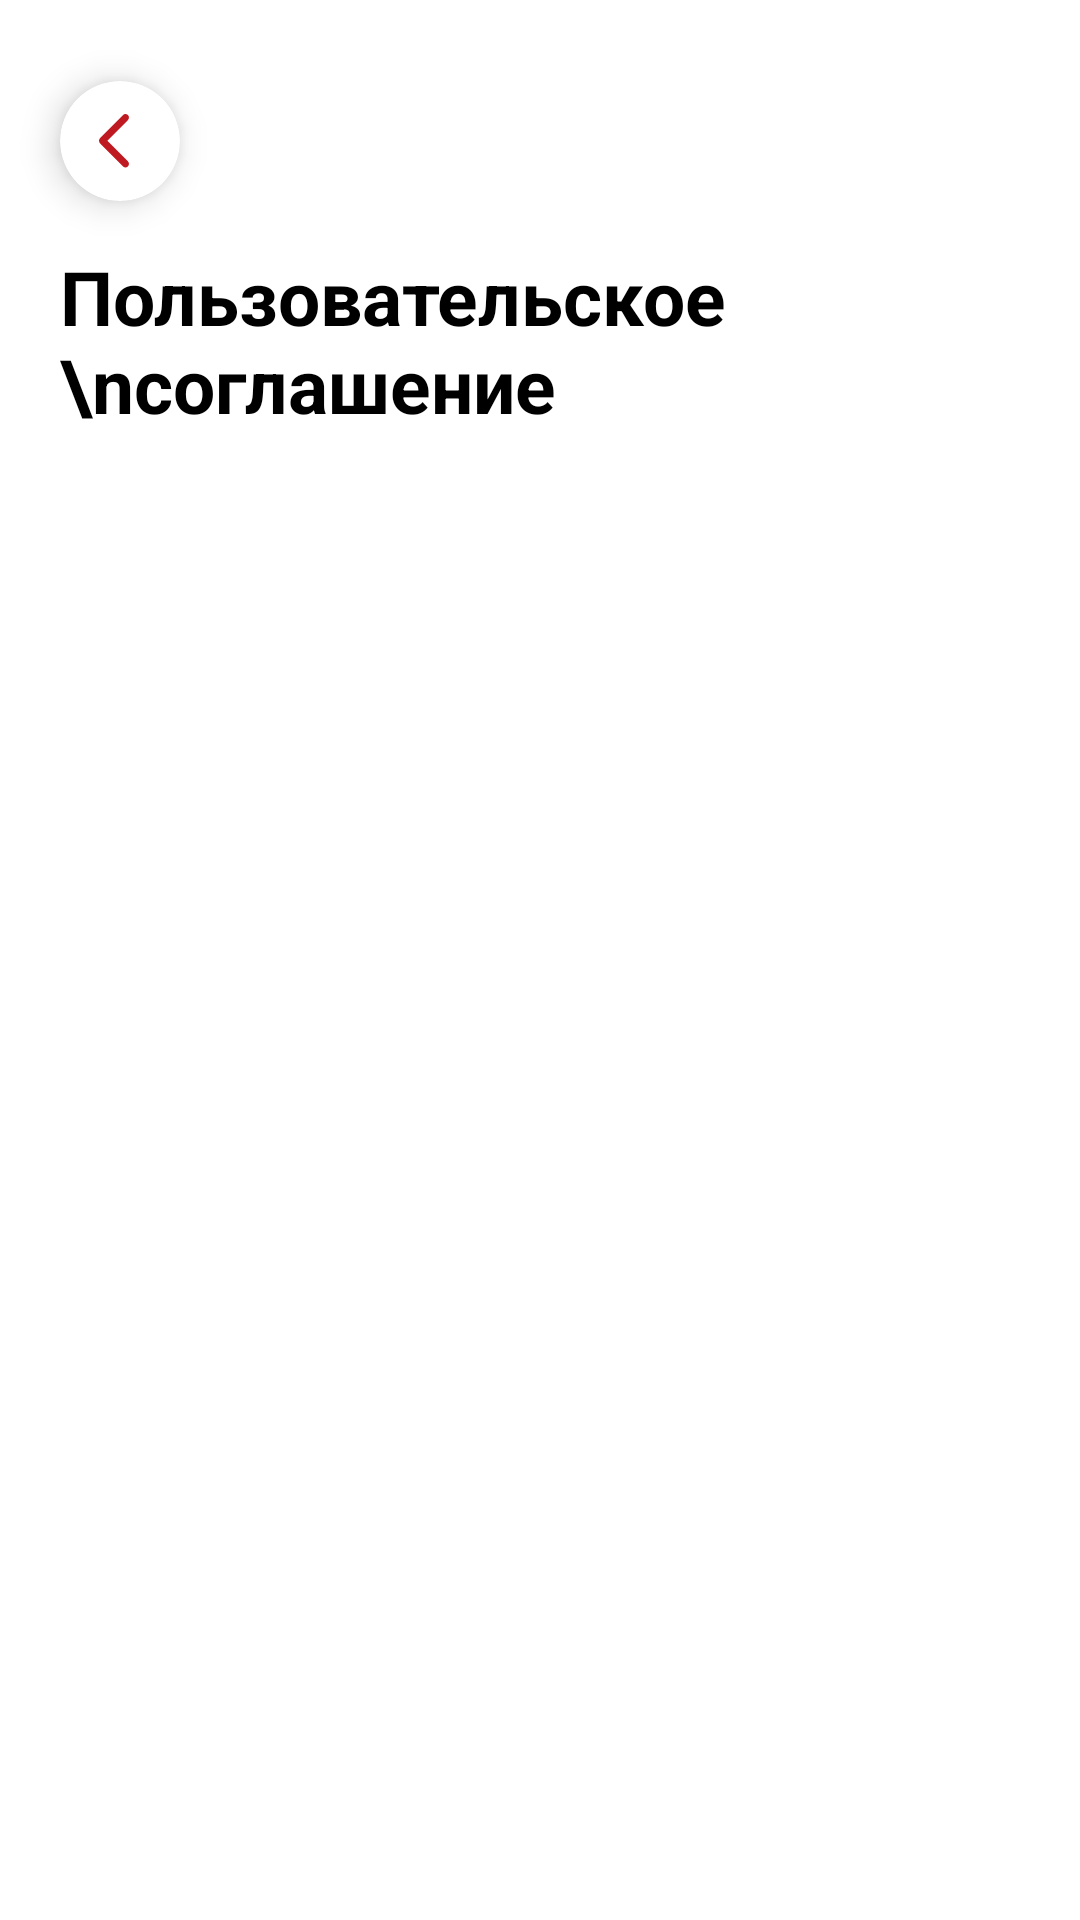

Screen size 1080w x 1920h. Icon name, then its box in pixels as box(x1, y1, x2, y2):
left: box(99, 114, 129, 168)
